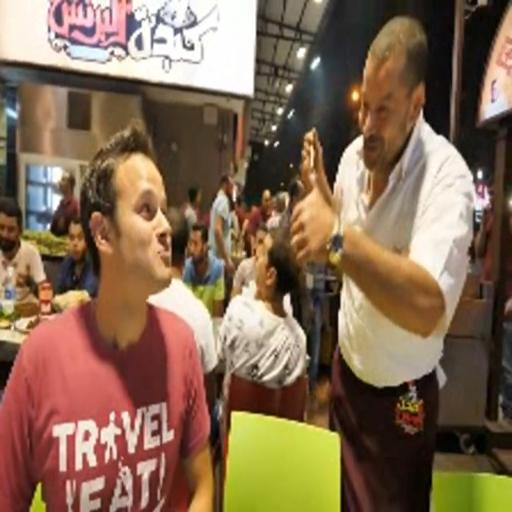nao-violencia: (8, 10, 483, 512)
